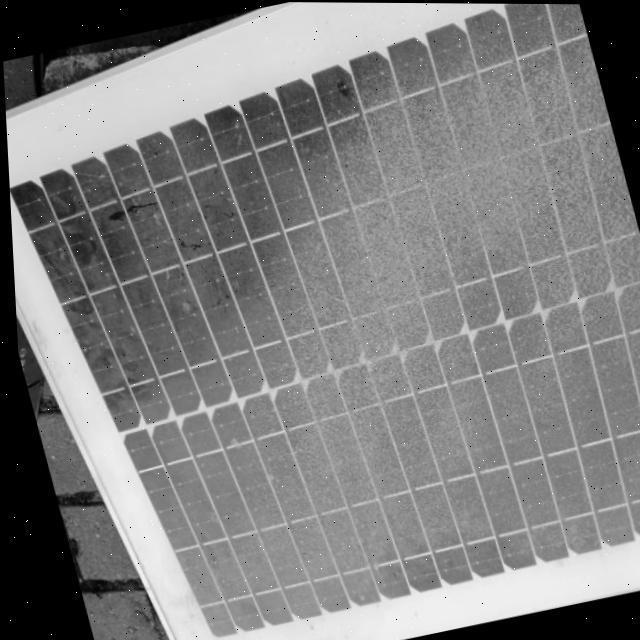Surface Contaminant: (55, 39, 640, 640)
